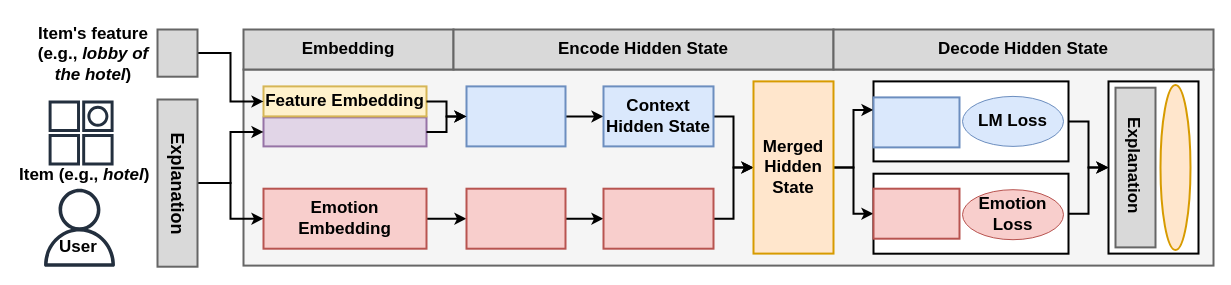
Some shapes in this 1231 by 285 pixel diagram are drawn without their labels. Each missing label, with the box of its shape:
Context Encoder: (465, 85, 566, 147)
Emotion Encoder: (465, 187, 566, 249)
Emotion Head: (872, 187, 960, 239)
Emotion Hidden State: (602, 187, 714, 249)
Final Loss: (1159, 84, 1191, 251)
LM Head: (872, 96, 960, 148)
Token Embedding: (262, 116, 427, 147)
